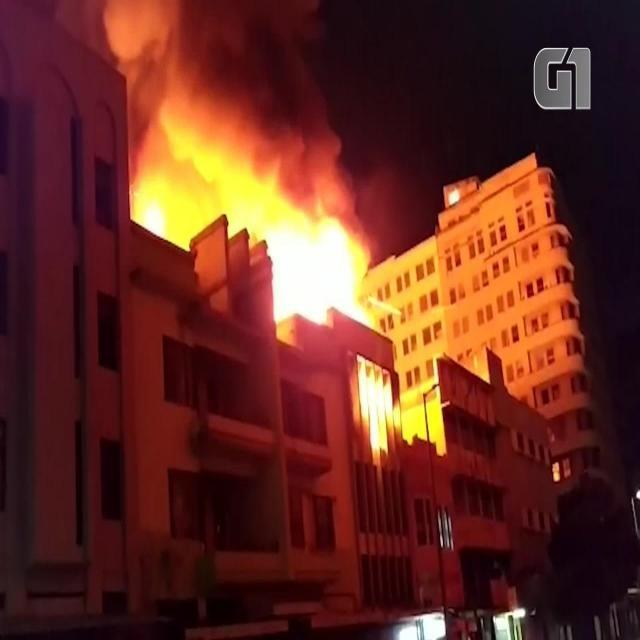Fire: (132, 119, 368, 332)
